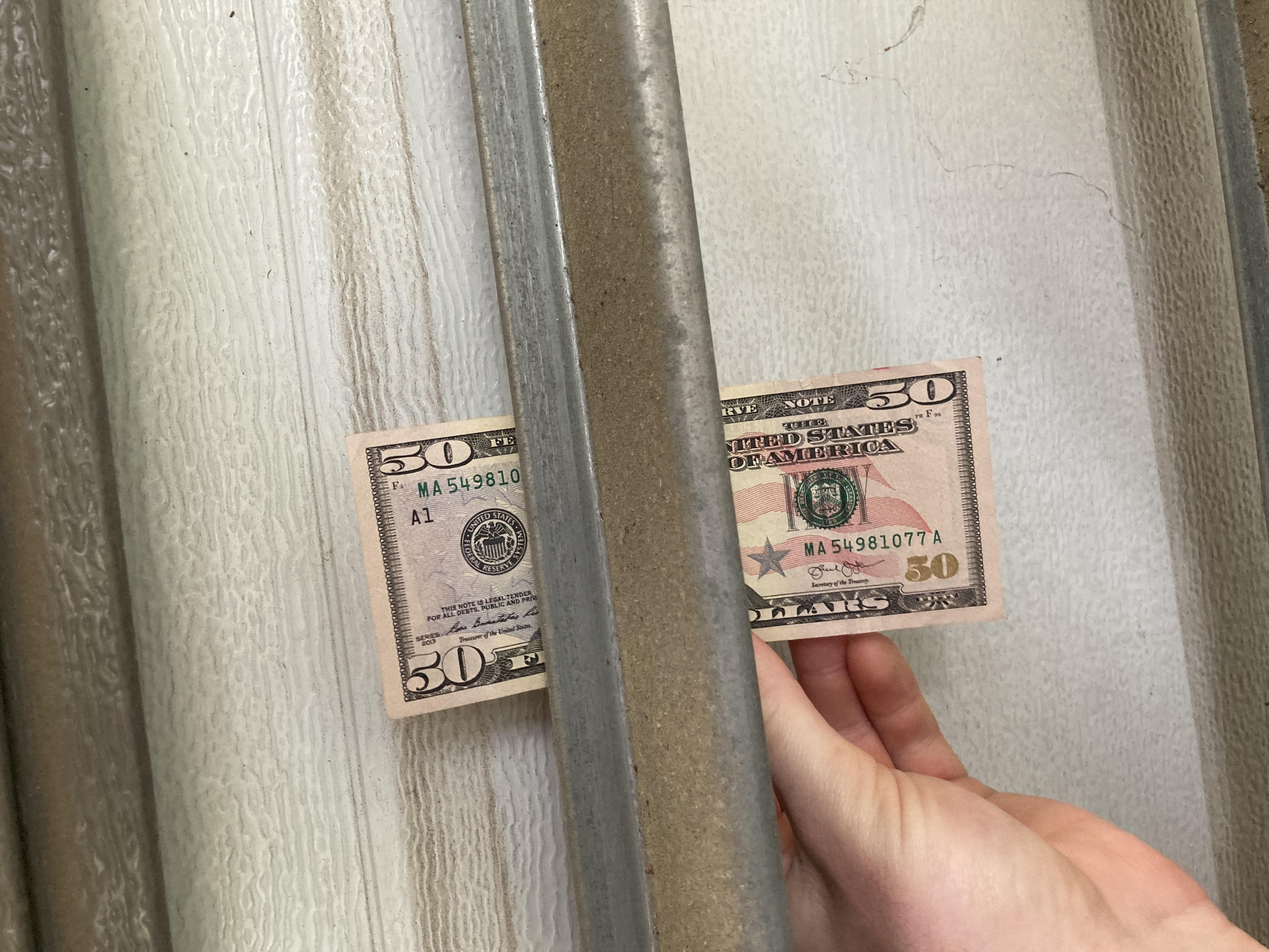fifty-front: (308, 261, 800, 754)
